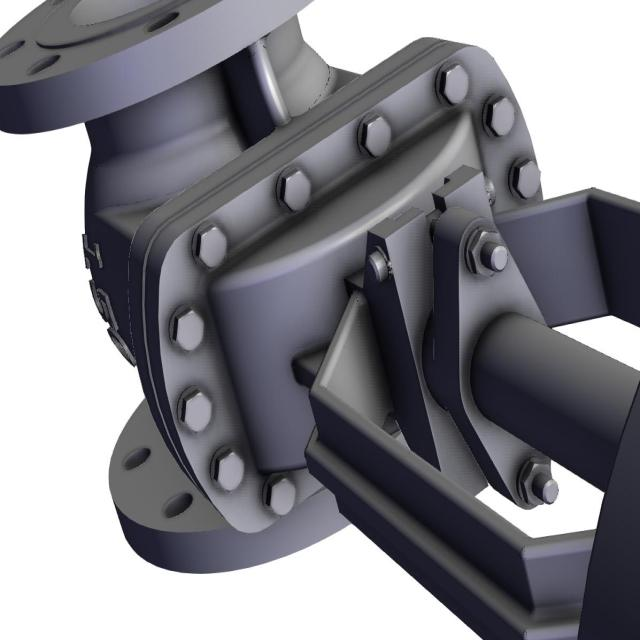bolt head: (195, 222, 228, 272), (172, 308, 206, 355), (180, 389, 213, 436), (212, 448, 245, 493), (360, 115, 393, 159), (280, 169, 312, 214), (438, 63, 470, 108), (265, 475, 297, 518), (485, 94, 516, 138), (511, 158, 542, 202)
bolt nut: (468, 227, 506, 279), (520, 461, 555, 507)
